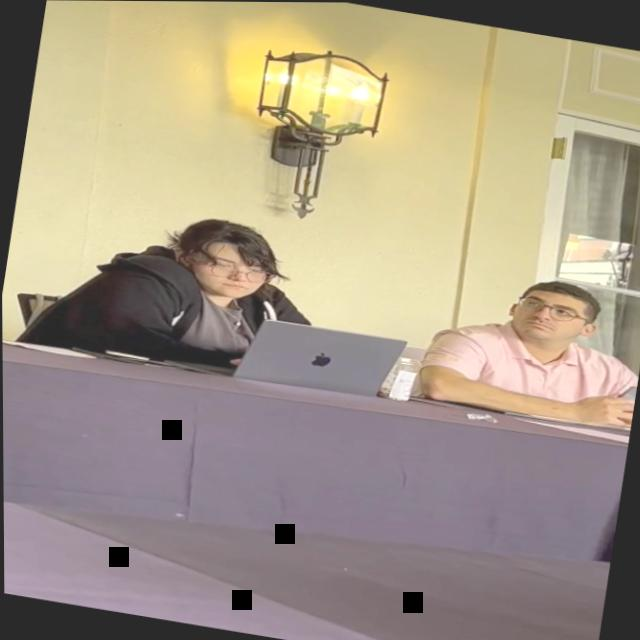NO-Mask: (502, 279, 601, 354), (185, 234, 278, 307)
